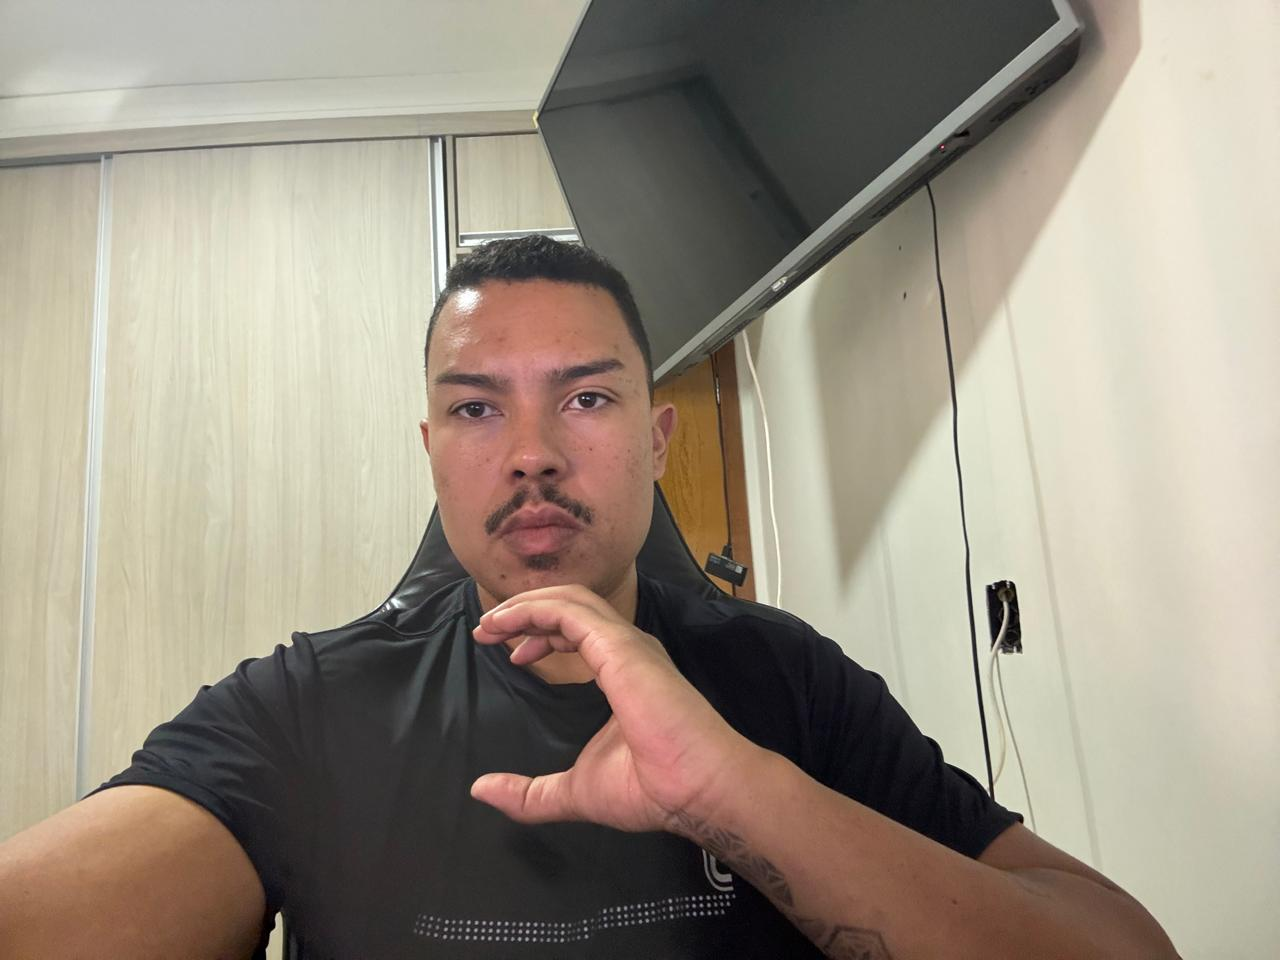c: (463, 577, 755, 846)
